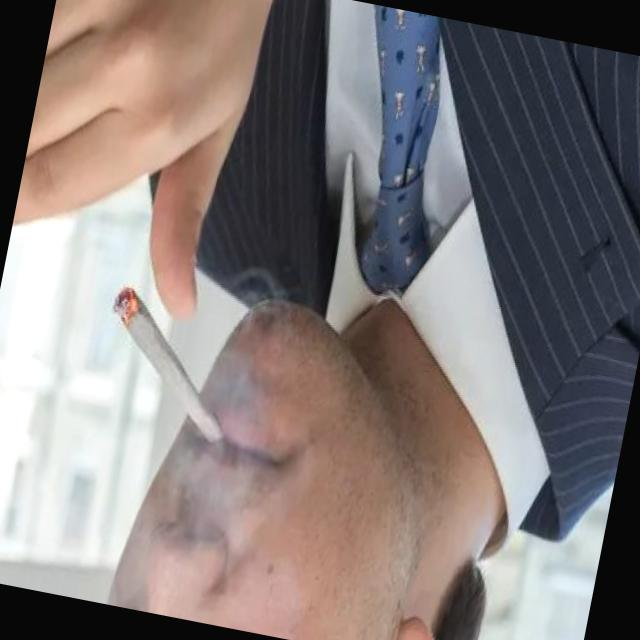smoke: (85, 278, 252, 450)
